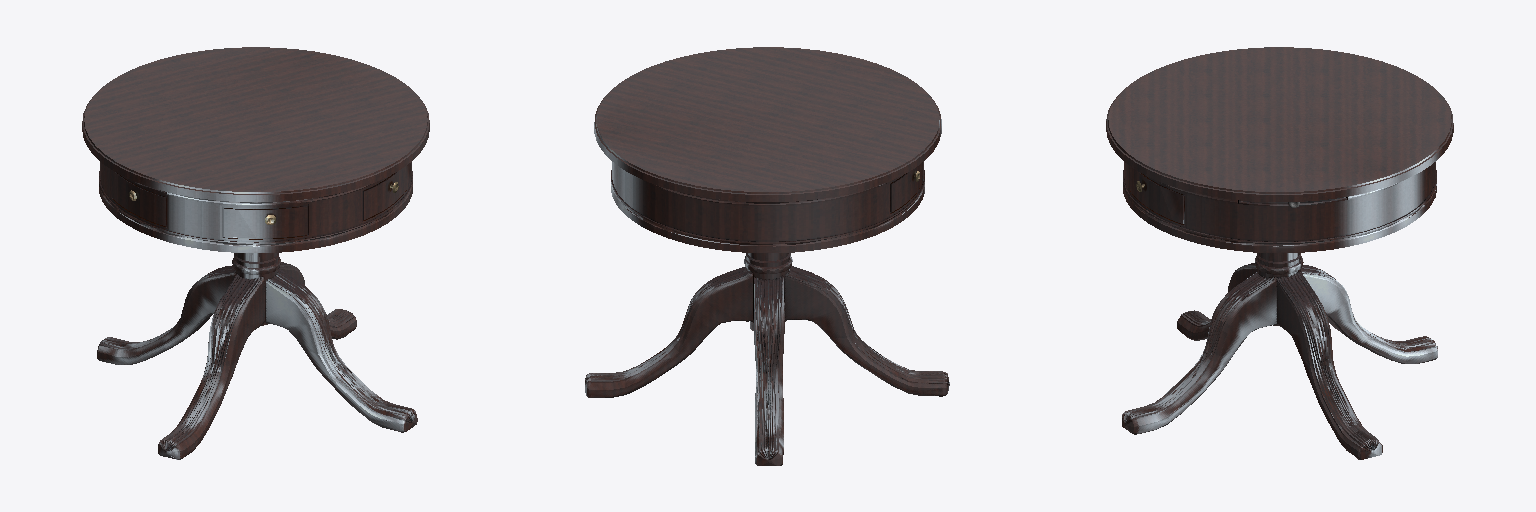
3 views of the same model, side by side, from view 1: azimuth 30°, elevation 25°; view 2: azimuth 150°, elevation 25°; view 3: azimuth 270°, elevation 25° (orthographic).
Parts seen in each view (by area): view 1: solid_001; view 2: solid_001; view 3: solid_001.
Part boxes in pixels (x1,y1,x2,y2): solid_001: (82,47,429,459); solid_001: (585,47,949,465); solid_001: (1106,47,1453,459).
Size of the model in its own units: 1.46 by 1.27 by 1.46.
Materials: 1 (1 with a texture image).